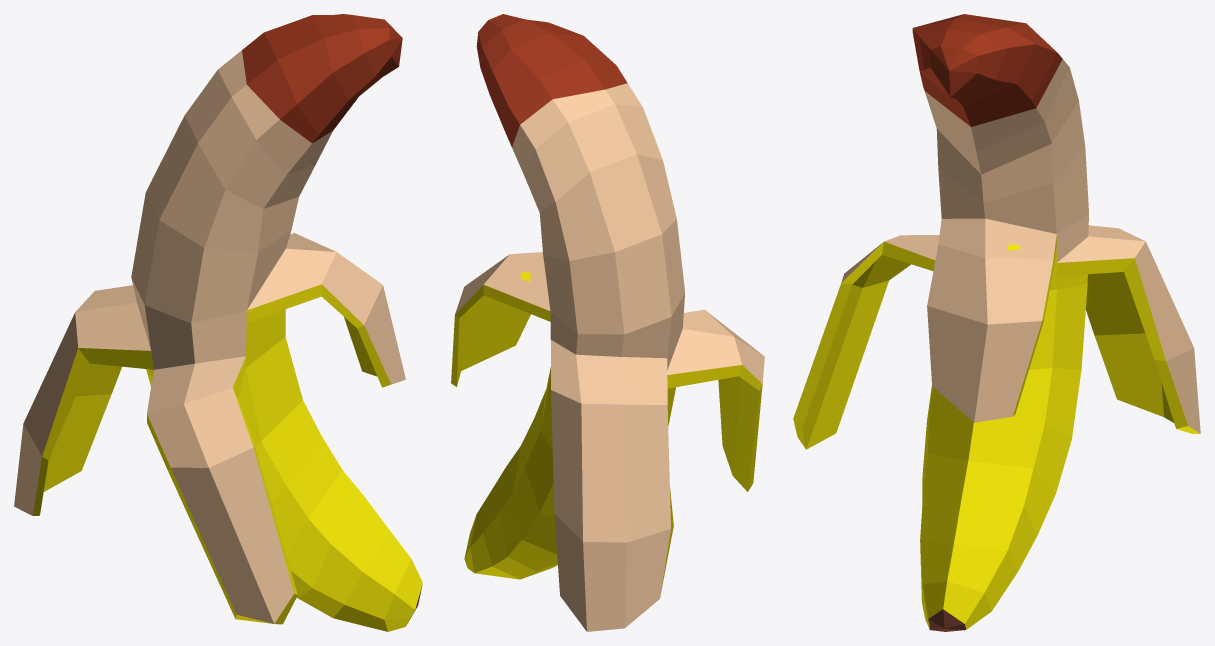
File: banana-choco.fbx
3 renders of one model, left to right at view 1: azimuth 30°, elevation 25°; view 2: azimuth 150°, elevation 25°; view 3: azimuth 270°, elevation 25°, orthographic. The views are drawn at different scales.
Parts seen in each view (by area): view 1: Cube.006; view 2: Cube.006; view 3: Cube.006.
Boxes of the visible parts, x1,y1,x2,y2 form: Cube.006: (14,14,422,631); Cube.006: (451,14,764,631); Cube.006: (793,14,1200,631).
Bounding box in the file's own units: 74.15 × 143 × 90.5.
